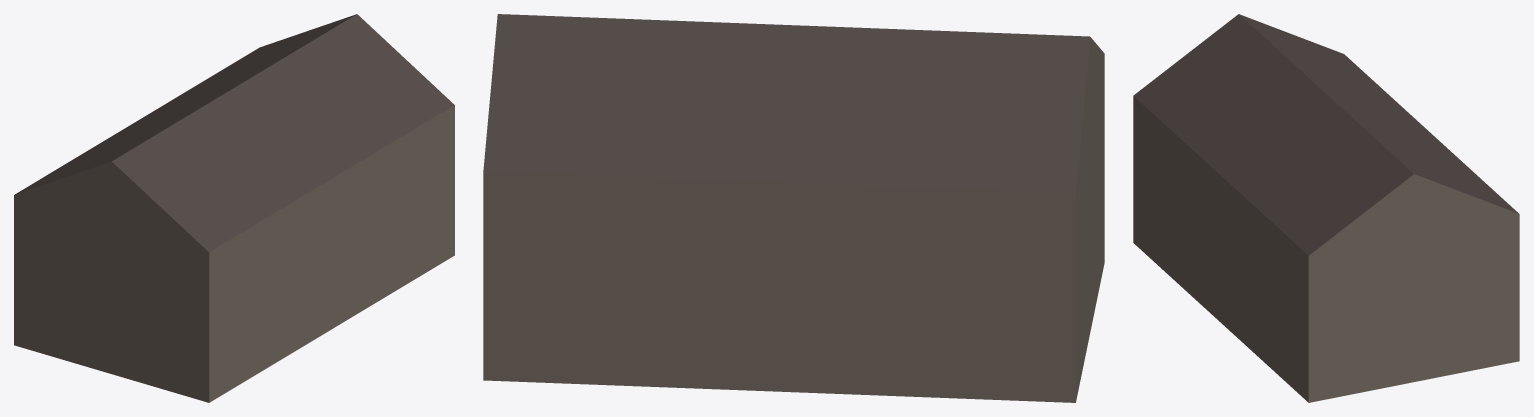
The picture shows the model from 3 angles, left to right: view 1: azimuth 30°, elevation 25°; view 2: azimuth 150°, elevation 25°; view 3: azimuth 270°, elevation 25°; orthographic projection. The views are drawn at different scales.
Visible parts, largest first — view 1: HP-w859488732; view 2: HP-w859488732; view 3: HP-w859488732.
Part boxes in pixels (box(x1,y1,x2,y2)): HP-w859488732: box(14, 14, 454, 402); HP-w859488732: box(483, 14, 1104, 402); HP-w859488732: box(1133, 14, 1519, 402).
Size of the model in its own units: 26.45 by 12.72 by 21.41.
